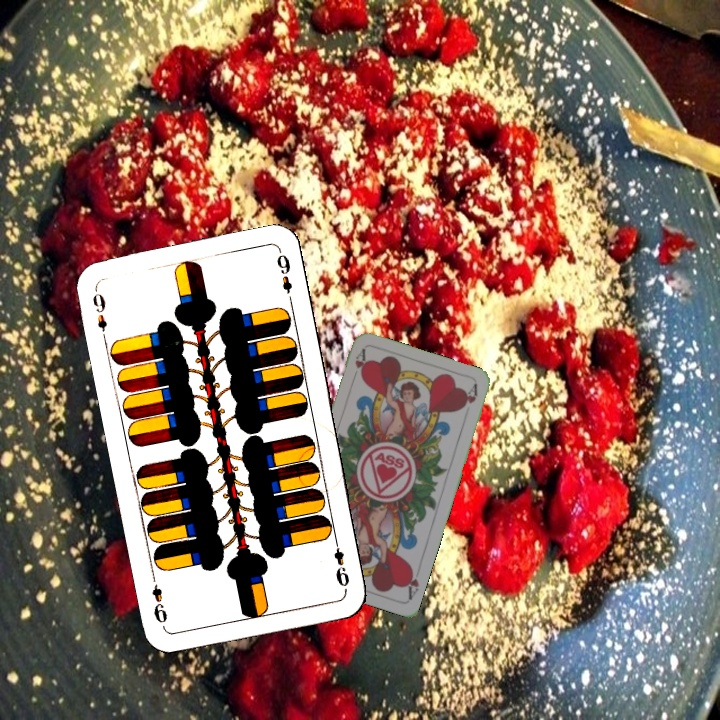E9: (330, 533, 352, 592), (88, 285, 110, 344)
HA: (401, 562, 422, 602), (347, 345, 368, 385)
